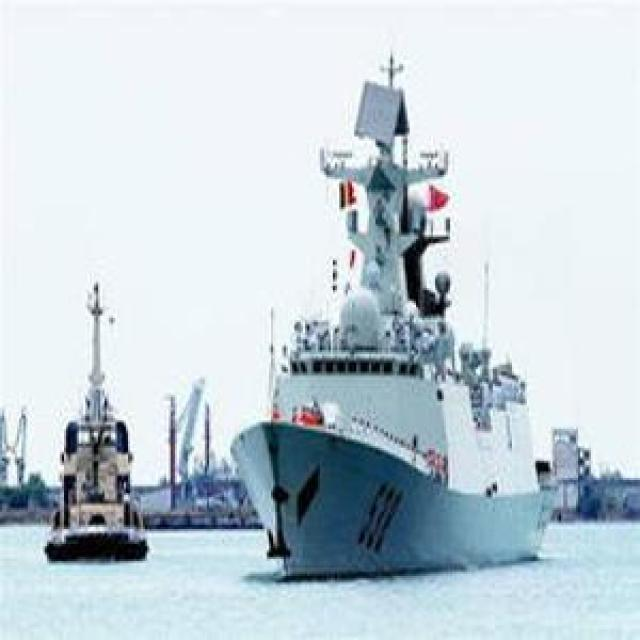navalvessels: (222, 77, 562, 585), (47, 284, 167, 566)
